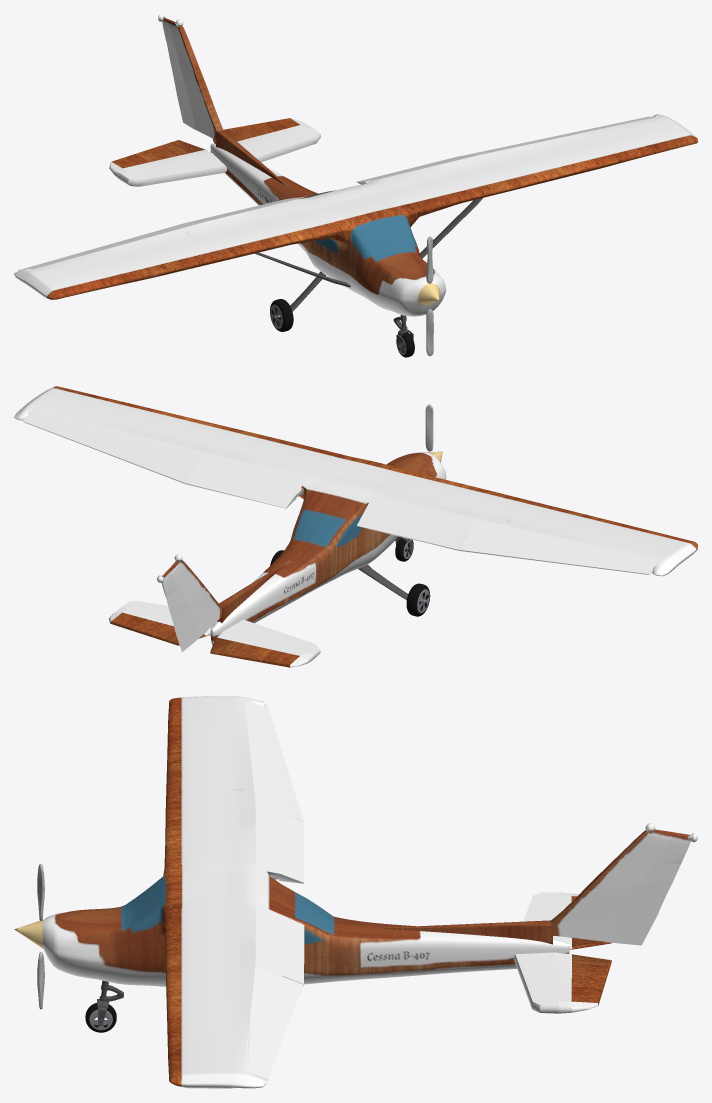
The model's file is luxury_cessna_plane.glb.
The picture shows the model from 3 angles, top to bottom: view 1: azimuth 30°, elevation 25°; view 2: azimuth 150°, elevation 25°; view 3: azimuth 270°, elevation 25°; orthographic projection. The views are drawn at different scales.
Parts seen in each view (by area): view 1: polySurface117, polySurface82, polySurface107, polySurface80, polySurface95, polySurface105, polySurface96, polySurface89, polySurface108; view 2: polySurface117, polySurface80, polySurface82, polySurface107, polySurface95, polySurface96, polySurface105, polySurface89, polySurface108; view 3: polySurface117, polySurface80, polySurface107, polySurface82, polySurface96, polySurface89, polySurface105, polySurface88.
Part boxes in pixels (<box>): polySurface117: <box>14,114,697,316</box>; polySurface82: <box>109,118,320,186</box>; polySurface107: <box>162,17,223,140</box>; polySurface80: <box>23,116,657,269</box>; polySurface95: <box>112,140,204,168</box>; polySurface105: <box>212,118,299,143</box>; polySurface96: <box>166,43,195,129</box>; polySurface89: <box>216,130,288,186</box>; polySurface108: <box>270,299,293,331</box>; polySurface117: <box>14,386,697,645</box>; polySurface80: <box>23,407,657,574</box>; polySurface82: <box>109,601,320,667</box>; polySurface107: <box>161,560,221,637</box>; polySurface95: <box>210,637,299,667</box>; polySurface96: <box>166,590,199,651</box>; polySurface105: <box>110,612,205,645</box>; polySurface89: <box>217,560,289,622</box>; polySurface108: <box>406,583,430,616</box>; polySurface117: <box>42,696,569,1088</box>; polySurface80: <box>244,700,304,1081</box>; polySurface107: <box>551,829,690,941</box>; polySurface82: <box>514,892,597,1013</box>; polySurface96: <box>605,863,681,945</box>; polySurface89: <box>382,920,552,944</box>; polySurface105: <box>571,954,611,1005</box>; polySurface88: <box>85,1003,116,1032</box>.
Size of the model in its own units: 32.58 by 8.17 by 24.36.
15 materials, 15 textured.
